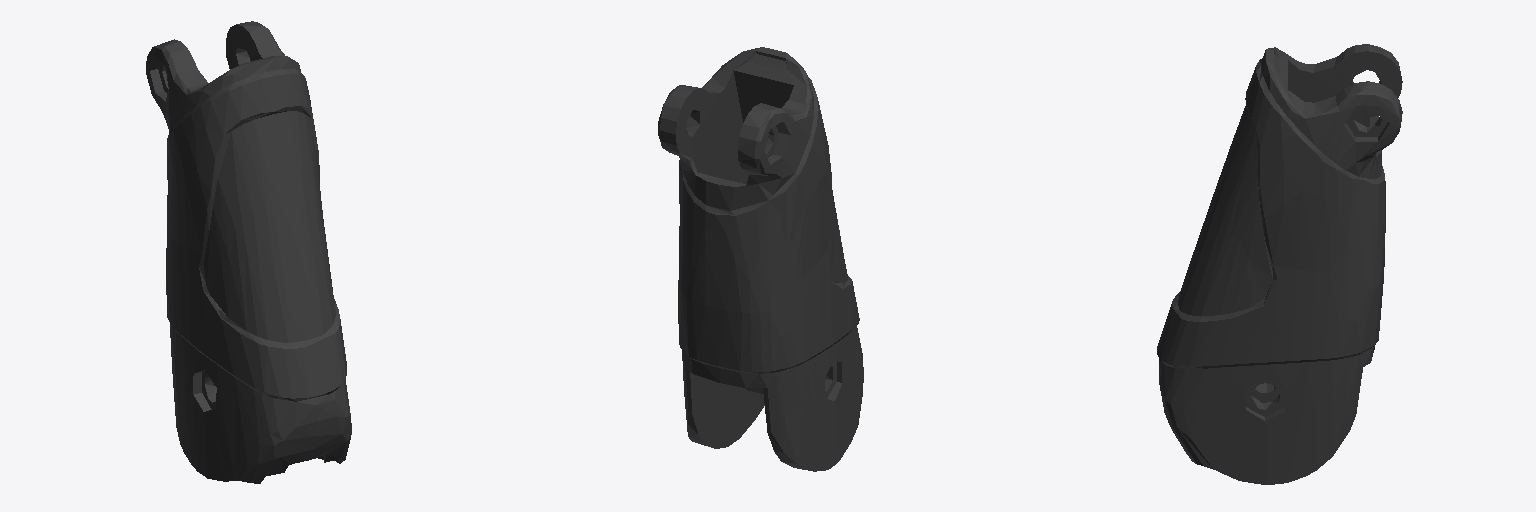
Rendered from L_pinky_proximal.obj.
3 views of the same model, side by side, from view 1: azimuth 30°, elevation 25°; view 2: azimuth 150°, elevation 25°; view 3: azimuth 270°, elevation 25° (orthographic).
Bounding box in the file's own units: 0.0143 × 0.0448 × 0.0248.